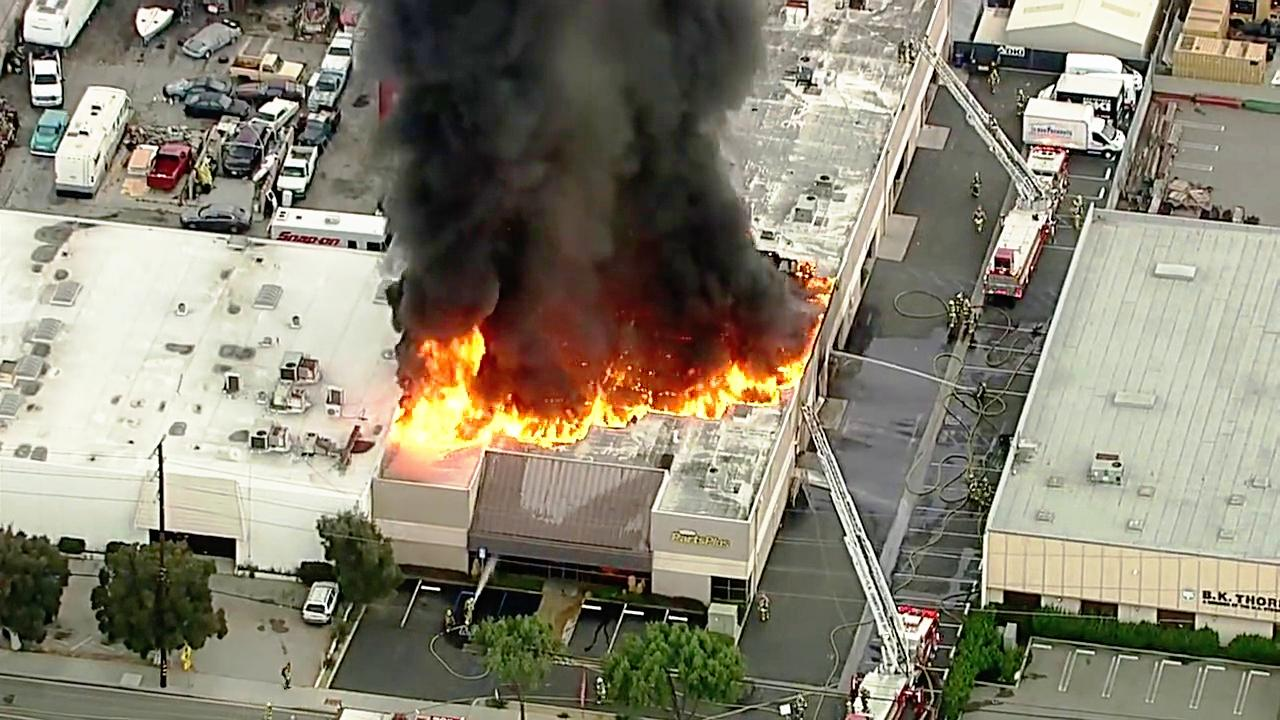fire: (372, 324, 485, 456), (490, 379, 635, 448), (630, 369, 784, 431)
smoke: (434, 0, 723, 295)
